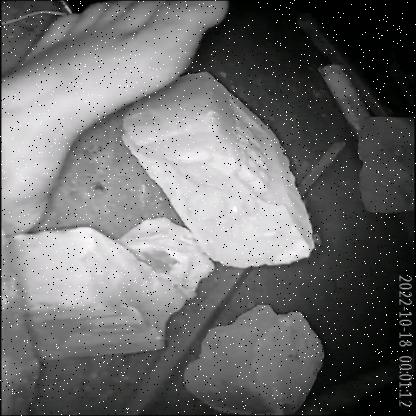leg: (0, 2, 242, 239)
